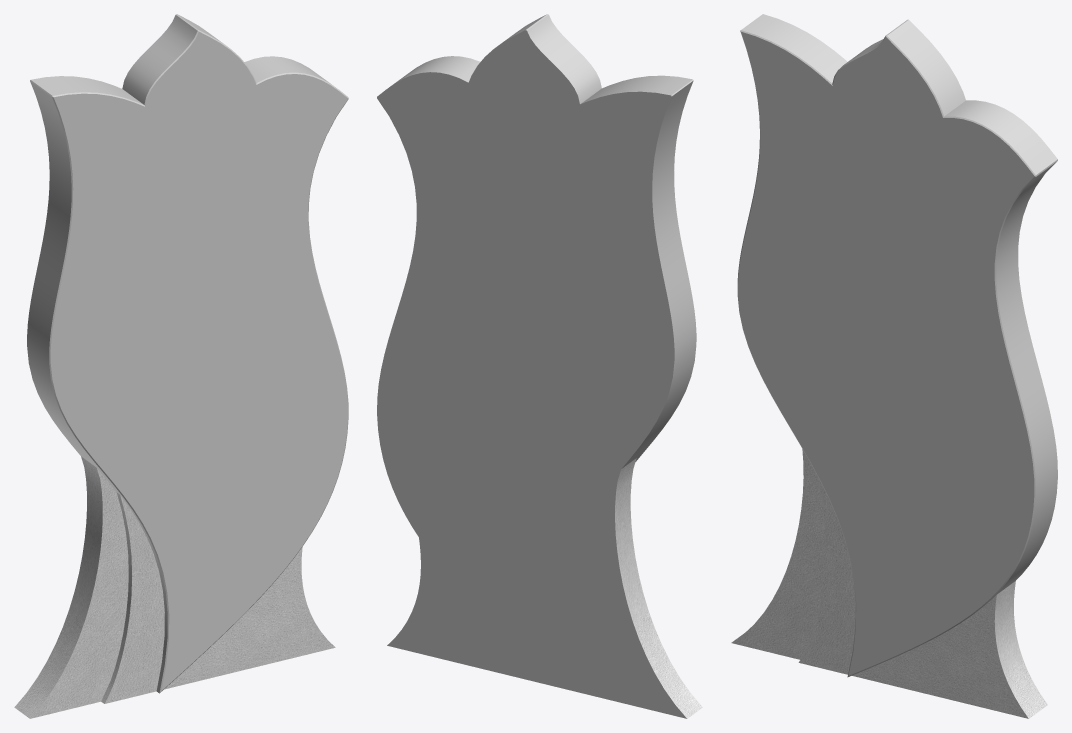
The model's file is cn648a3bccfa_tkf.glb.
The picture shows the model from 3 angles, left to right: view 1: azimuth 30°, elevation 25°; view 2: azimuth 150°, elevation 25°; view 3: azimuth 330°, elevation 25°; orthographic projection.
Visible parts, largest first — view 1: Pam-v-132-2, Pam-v-132-2_2_notexture; view 2: Pam-v-132-2, Pam-v-132-2_2_notexture; view 3: Pam-v-132-2, Pam-v-132-2_2_notexture.
Part boxes in pixels (x1,y1,x2,y2): Pam-v-132-2: [27, 14, 348, 693]; Pam-v-132-2_2_notexture: [14, 456, 335, 718]; Pam-v-132-2: [377, 14, 696, 718]; Pam-v-132-2_2_notexture: [615, 458, 702, 718]; Pam-v-132-2: [737, 14, 1057, 677]; Pam-v-132-2_2_notexture: [731, 449, 1047, 718].
Bounding box in the file's own units: 0.4 × 0.8 × 0.05.
Materials: 1 (1 with a texture image).
